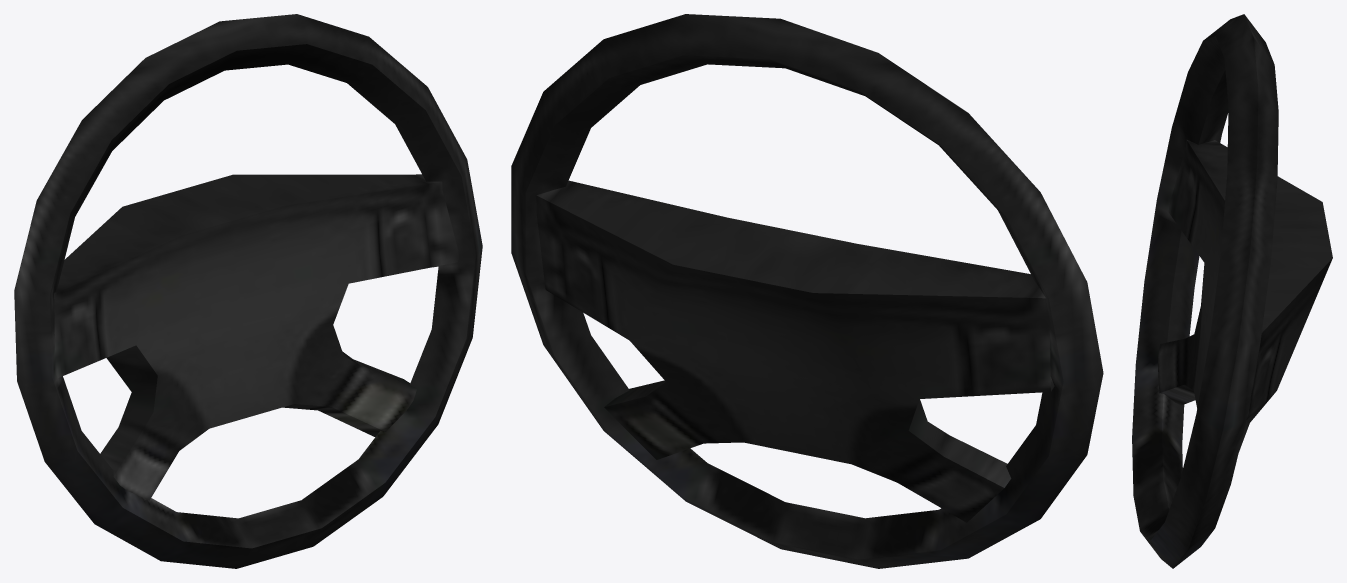
The model's file is tozzo98_sw_ucb_interiors_2_0.001_lev3.glb.
3 renders of one model, left to right at view 1: azimuth 30°, elevation 25°; view 2: azimuth 150°, elevation 25°; view 3: azimuth 270°, elevation 25°, orthographic. The views are drawn at different scales.
Visible parts, largest first — view 1: tozzo98_sw_ucb_interiors_2_0.001_lev3; view 2: tozzo98_sw_ucb_interiors_2_0.001_lev3; view 3: tozzo98_sw_ucb_interiors_2_0.001_lev3.
Part boxes in pixels (box(x1,y1,x2,y2)): tozzo98_sw_ucb_interiors_2_0.001_lev3: box(14, 14, 482, 568); tozzo98_sw_ucb_interiors_2_0.001_lev3: box(511, 14, 1103, 568); tozzo98_sw_ucb_interiors_2_0.001_lev3: box(1132, 14, 1332, 568).
Size of the model in its own units: 0.3584 by 0.3528 by 0.1291.
1 material, 1 textured.
